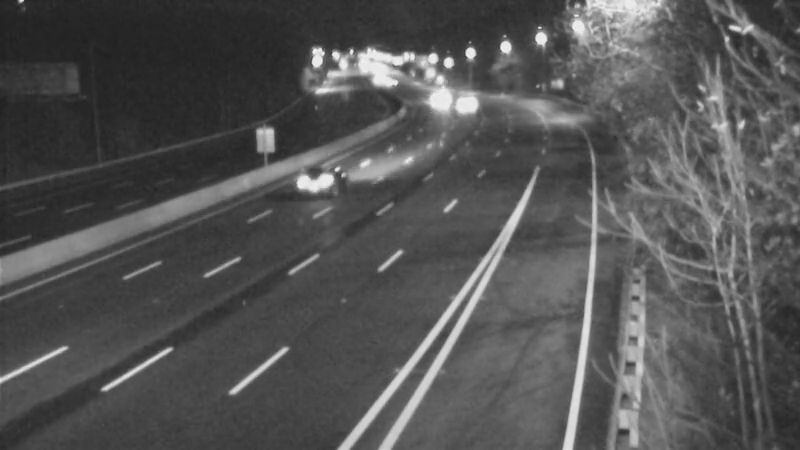vehicle: (280, 138, 360, 218), (410, 75, 460, 125), (441, 77, 491, 127)
